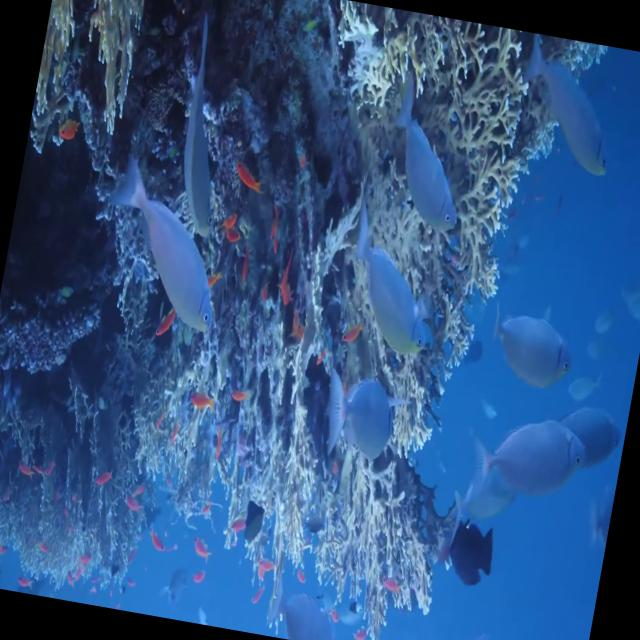fish: (102, 156, 240, 332), (162, 18, 246, 240), (340, 197, 450, 360), (506, 32, 628, 178), (375, 70, 481, 234), (467, 406, 594, 513), (318, 358, 405, 469), (483, 298, 582, 393), (441, 522, 497, 589)
